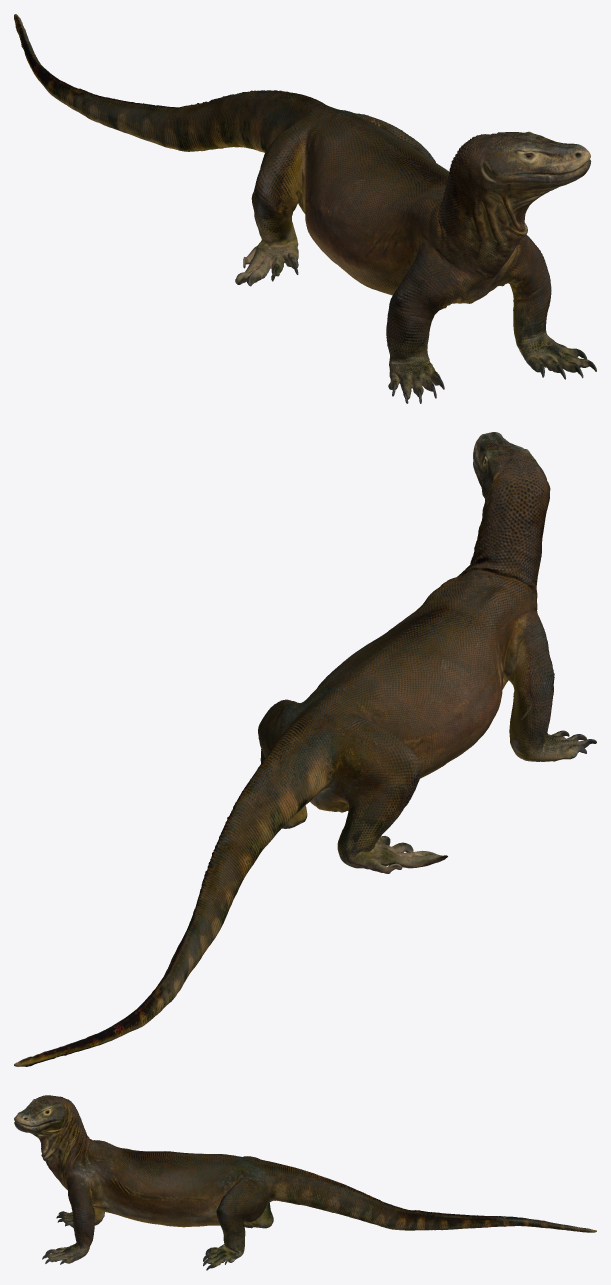
The model's file is komodo_dragon_nhmw-zoo-hs-23783.glb.
3 renders of one model, top to bottom at view 1: azimuth 30°, elevation 25°; view 2: azimuth 150°, elevation 25°; view 3: azimuth 270°, elevation 25°, orthographic. The views are drawn at different scales.
Visible parts, largest first — view 1: Object_2, Object_3; view 2: Object_2, Object_3; view 3: Object_3, Object_2.
Part boxes in pixels (x1,y1,x2,y2): Object_2: (14,14,596,403); Object_3: (32,53,591,363); Object_2: (14,455,596,1066); Object_3: (97,432,550,1033); Object_3: (14,1095,554,1269); Object_2: (42,1095,596,1270).
Size of the model in its own units: 517 by 587 by 2169.
1 material, 1 textured.
